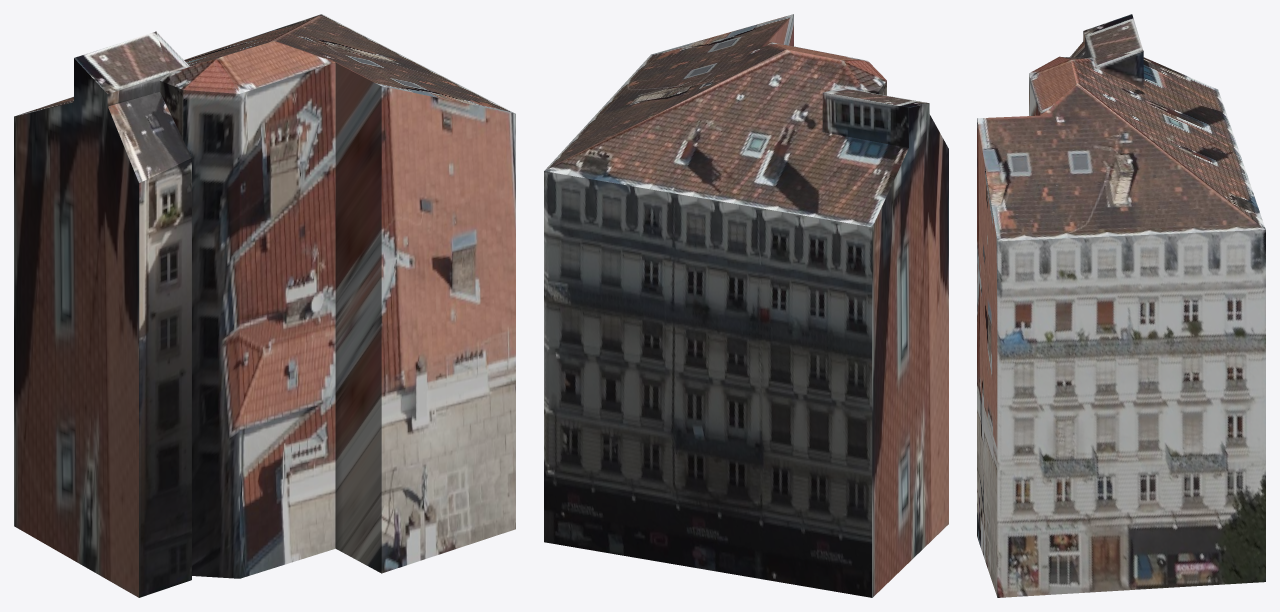
3 renders of one model, left to right at view 1: azimuth 30°, elevation 25°; view 2: azimuth 150°, elevation 25°; view 3: azimuth 270°, elevation 25°, orthographic. The views are drawn at different scales.
Visible parts, largest first — view 1: Z_UP; view 2: Z_UP; view 3: Z_UP.
Part boxes in pixels (x1,y1,x2,y2): Z_UP: [14, 14, 515, 597]; Z_UP: [544, 14, 948, 597]; Z_UP: [977, 14, 1265, 597].
Bounding box in the file's own units: 21.68 × 27.89 × 16.91.
2 materials, 1 textured.
